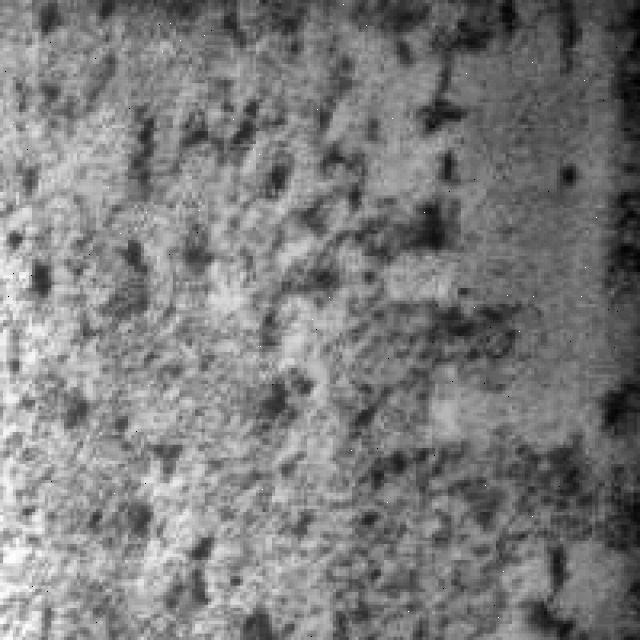Rolled_in_Scale: (55, 77, 458, 516)
